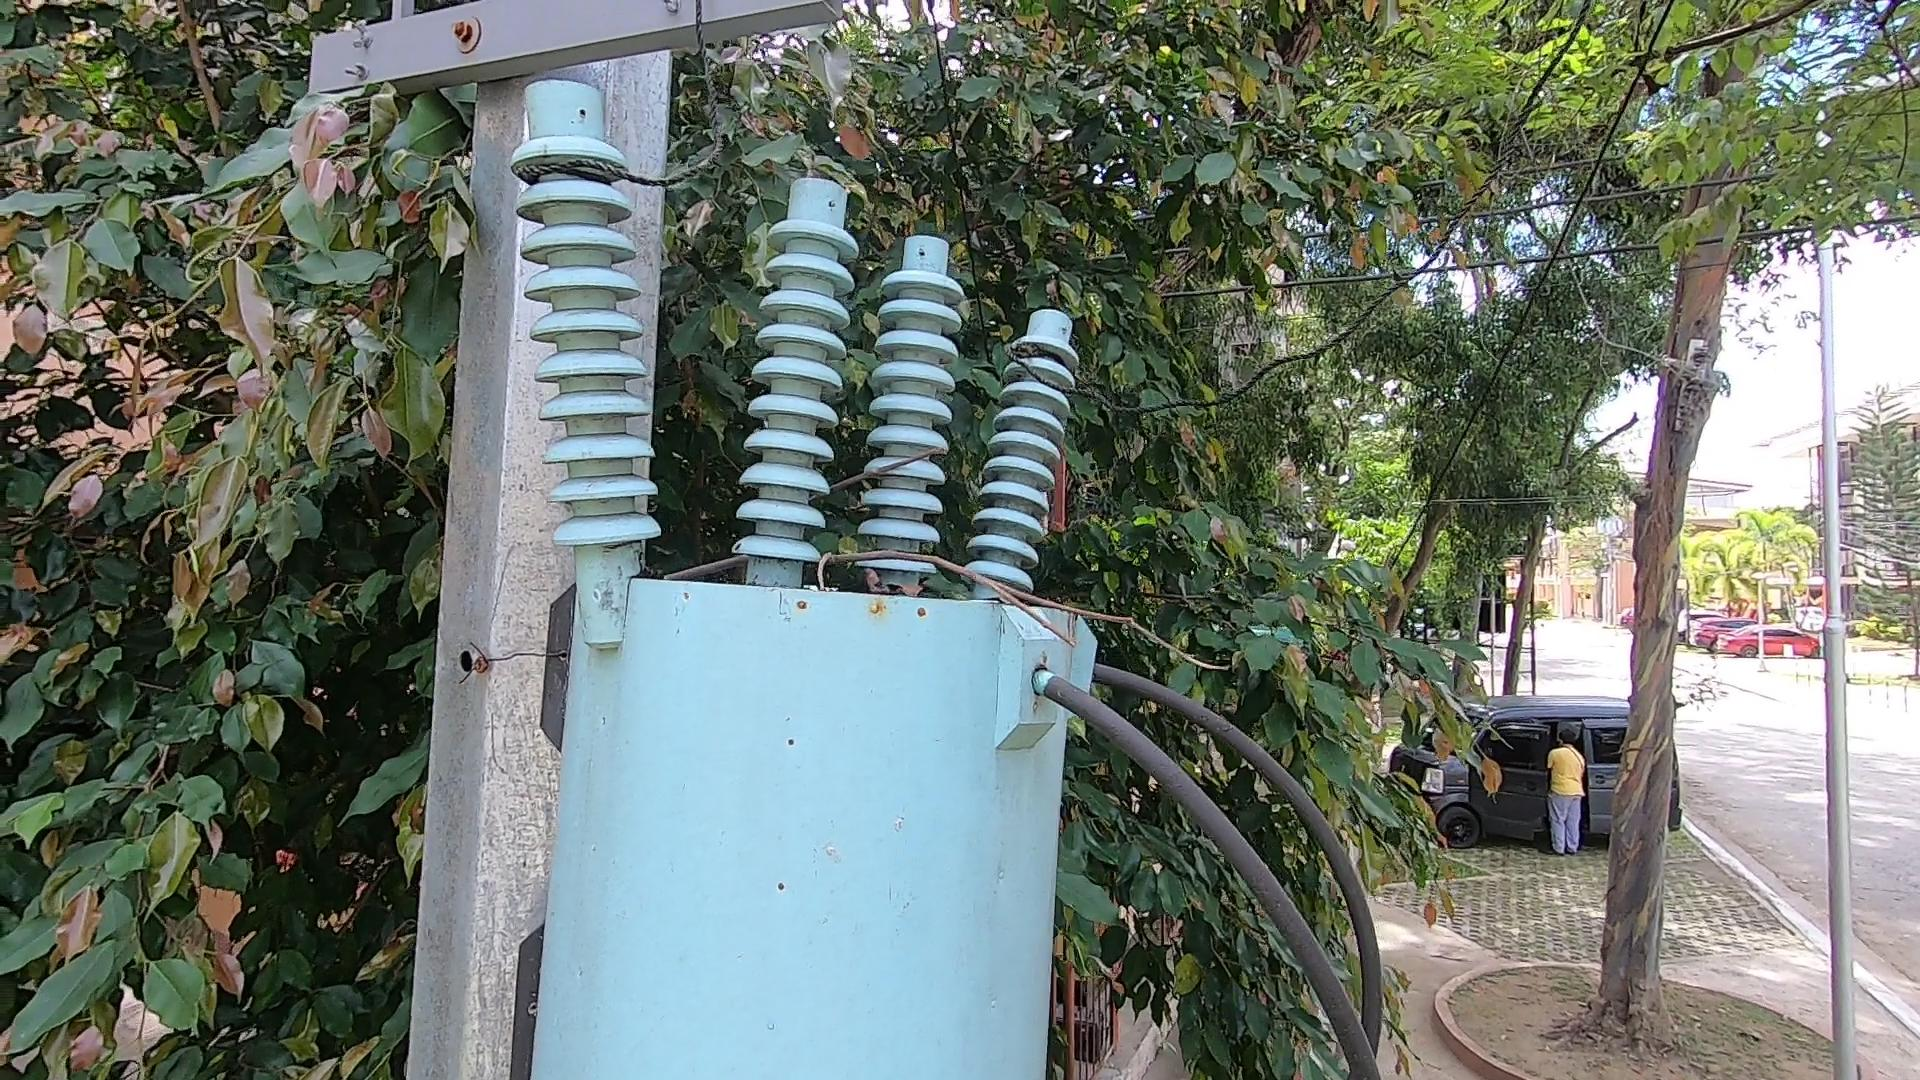leaf: (858, 568, 935, 605)
tree branch: (603, 448, 1249, 700)
